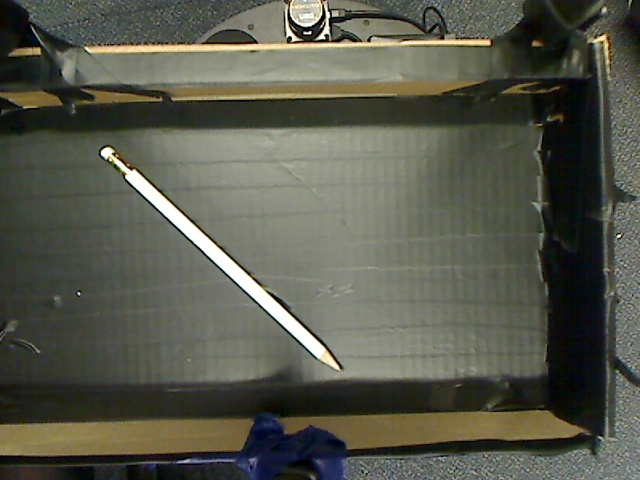pencil: (79, 125, 353, 377)
